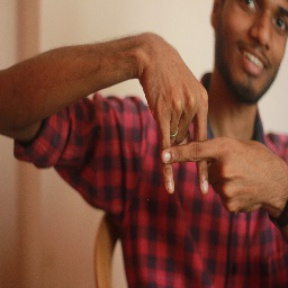H: (142, 84, 250, 207)
